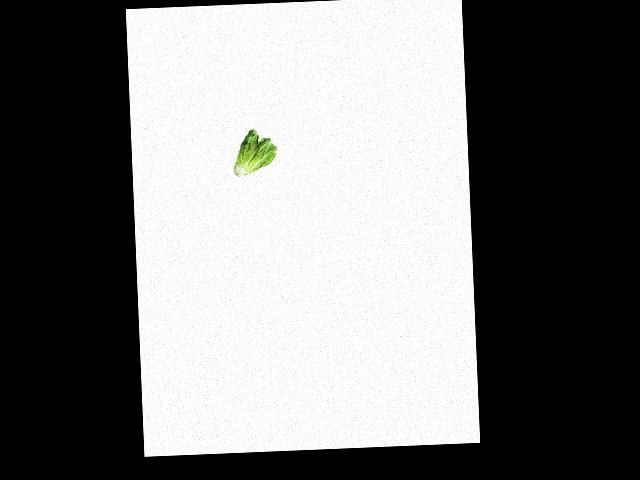lettuce: (231, 128, 284, 178)
